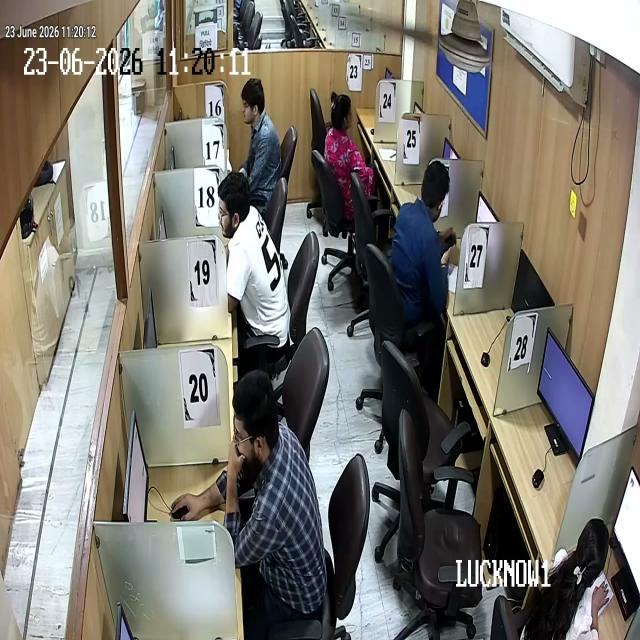phone: (444, 220, 456, 257)
